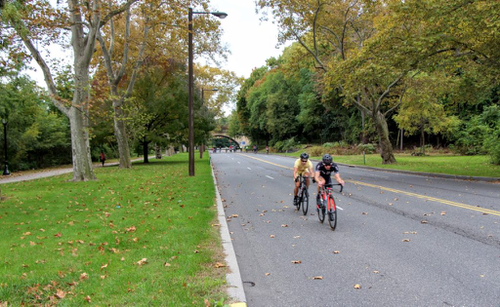bikerider: (309, 149, 349, 235), (287, 145, 312, 221)
